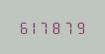eight: (51, 20, 61, 34)
nine: (73, 20, 83, 34)
one: (28, 20, 38, 34)
seven: (40, 20, 50, 34), (62, 20, 72, 34)
six: (17, 20, 27, 34)
